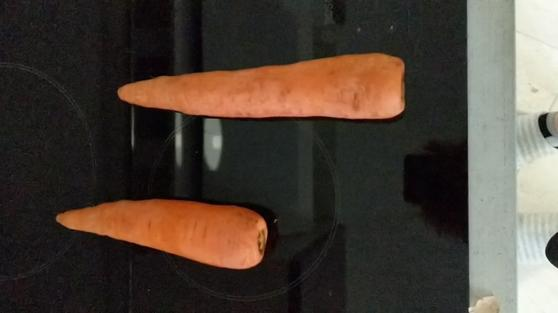carrot: (113, 47, 409, 124), (52, 190, 274, 273)
